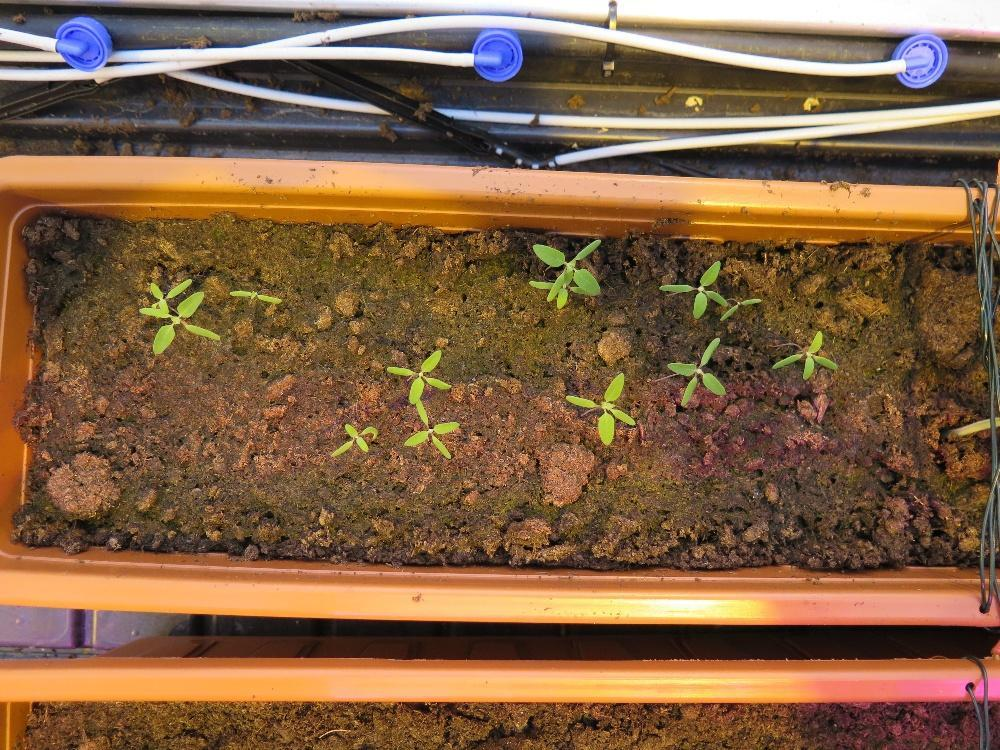weed: (563, 369, 635, 446), (665, 335, 726, 407), (770, 327, 838, 379), (327, 422, 377, 458), (227, 289, 284, 305)
